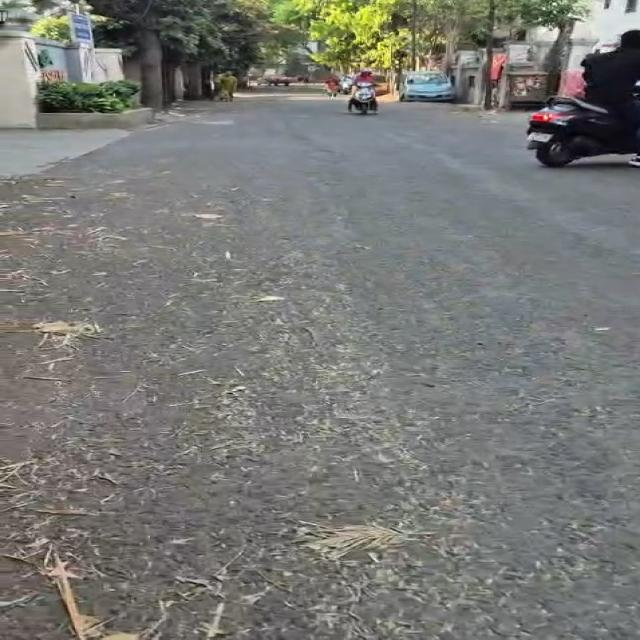obstacle: (484, 0, 496, 109), (412, 0, 417, 70)
vehicle: (528, 97, 637, 167), (401, 71, 455, 102), (349, 83, 377, 114)
